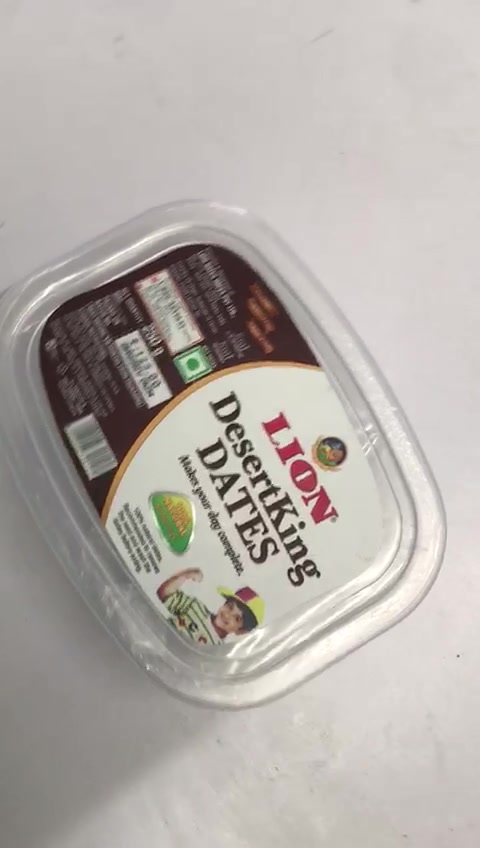Lion dates: (1, 199, 448, 711)
